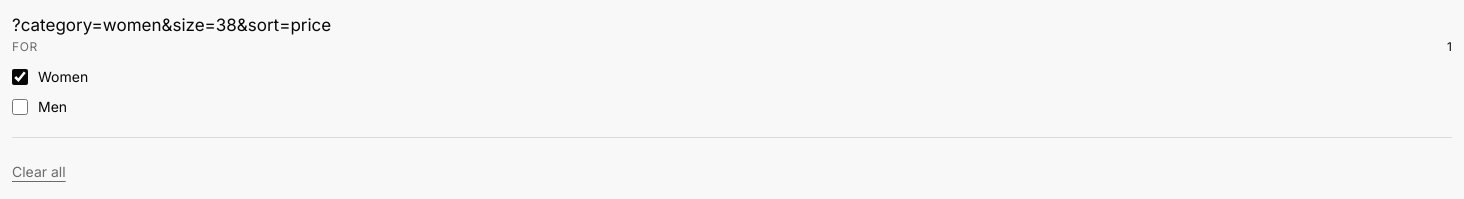
it: Clear all under the rail › removes the filters and the size and keeps the order
This screenshot has width=1464, height=199.
Click the button "Clear all" at (39, 172), box [12,162,66,182]
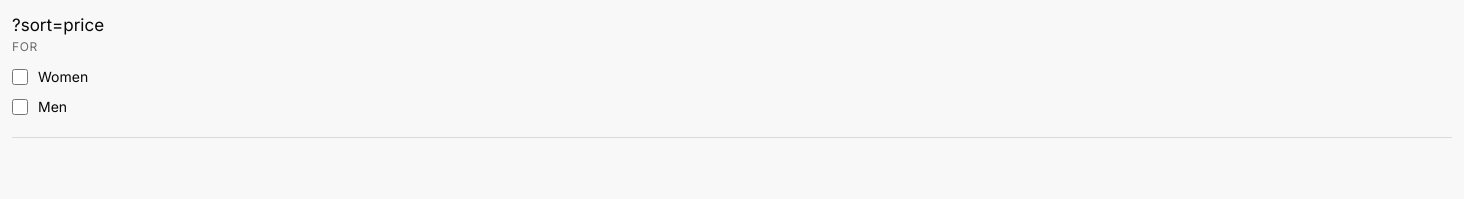
Expected: the text with test id "address" reads "?sort=price", [12,15,104,35]
